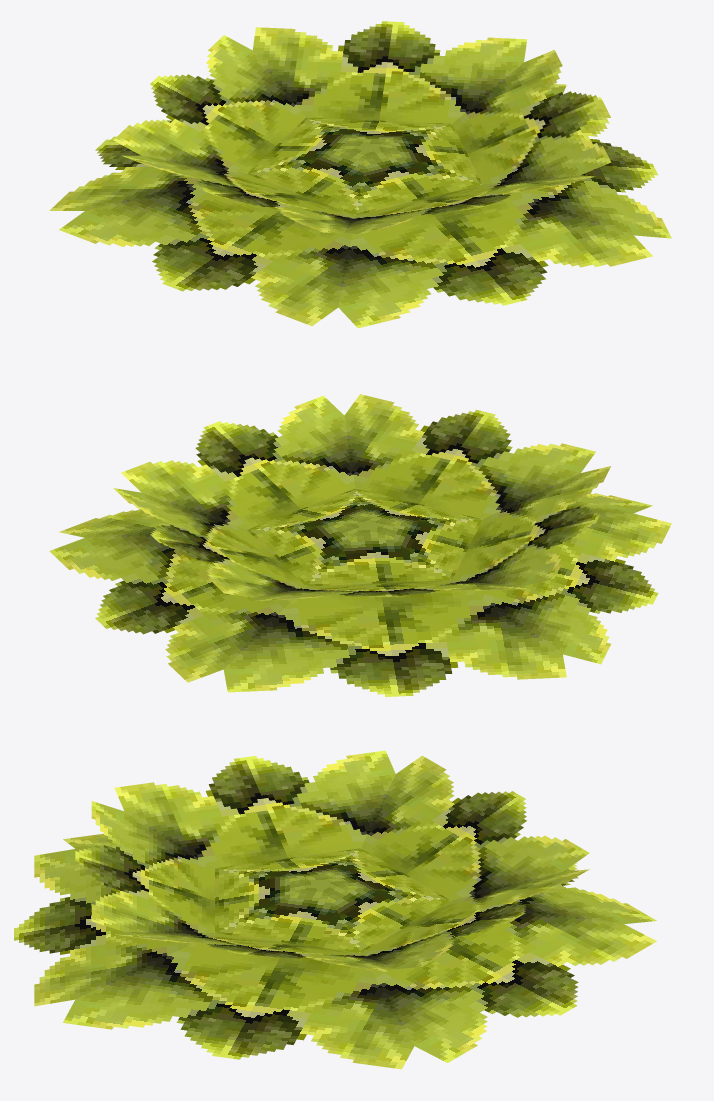
The model's file is choronuts_plant.obj.
The picture shows the model from 3 angles, top to bottom: view 1: azimuth 30°, elevation 25°; view 2: azimuth 150°, elevation 25°; view 3: azimuth 270°, elevation 25°; orthographic projection. The views are drawn at different scales.
Visible parts, largest first — view 1: nodes_4__meshes[0], nodes_5__meshes[1]; view 2: nodes_4__meshes[0], nodes_5__meshes[1]; view 3: nodes_4__meshes[0], nodes_5__meshes[1].
Part boxes in pixels (x1=…): nodes_4__meshes[0]: x1=49, y1=21, x2=671, y2=328; nodes_5__meshes[1]: x1=113, y1=21, x2=610, y2=234; nodes_4__meshes[0]: x1=49, y1=396, x2=671, y2=696; nodes_5__meshes[1]: x1=113, y1=394, x2=610, y2=600; nodes_4__meshes[0]: x1=14, y1=755, x2=656, y2=1069; nodes_5__meshes[1]: x1=75, y1=750, x2=589, y2=971.
Size of the model in its own units: 6231 by 749 by 5926.
2 materials, 2 textured.
